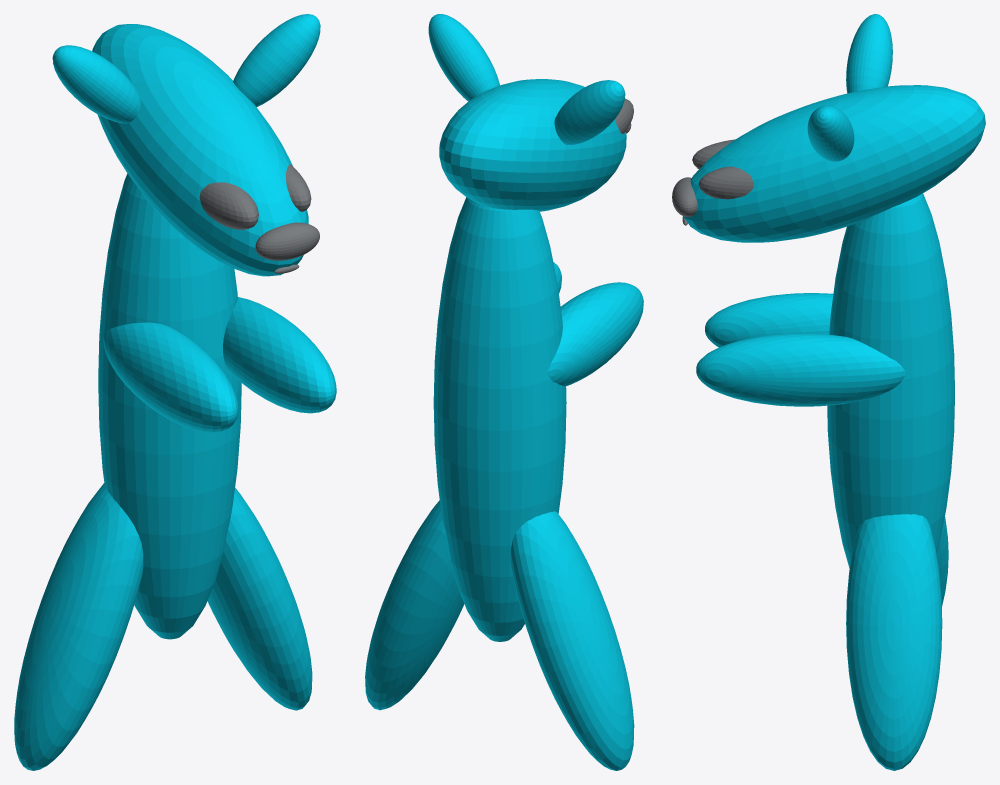
The model's file is Fantastic Turing-Bombul.glb.
3 renders of one model, left to right at view 1: azimuth 30°, elevation 25°; view 2: azimuth 150°, elevation 25°; view 3: azimuth 270°, elevation 25°, orthographic. The views are drawn at different scales.
Visible parts, largest first — view 1: obj_0, obj_1, obj_8, obj_7, obj_10, obj_9, obj_5, obj_6, obj_3, obj_4, obj_2; view 2: obj_0, obj_8, obj_1, obj_7, obj_10, obj_5, obj_6; view 3: obj_0, obj_1, obj_7, obj_9, obj_10, obj_6, obj_5, obj_2, obj_4, obj_8.
Part boxes in pixels (box(x1,y1,x2,y2)): obj_0: box(98, 173, 241, 639); obj_1: box(92, 24, 308, 276); obj_8: box(14, 483, 143, 770); obj_7: box(207, 487, 312, 710); obj_10: box(103, 322, 238, 432); obj_9: box(223, 297, 336, 413); obj_5: box(233, 14, 320, 106); obj_6: box(52, 45, 140, 123); obj_3: box(199, 182, 258, 229); obj_4: box(255, 222, 319, 260); obj_2: box(286, 164, 311, 211); obj_0: box(433, 197, 566, 641); obj_8: box(510, 511, 634, 770); obj_1: box(439, 79, 626, 211); obj_7: box(365, 500, 464, 710); obj_10: box(547, 282, 643, 386); obj_5: box(428, 14, 499, 101); obj_6: box(554, 80, 625, 144); obj_0: box(827, 193, 954, 568); obj_1: box(683, 85, 985, 242); obj_7: box(846, 514, 942, 770); obj_9: box(696, 333, 905, 406); obj_10: box(705, 293, 833, 347); obj_6: box(846, 14, 892, 93); obj_5: box(807, 105, 854, 161); obj_2: box(698, 166, 754, 199); obj_4: box(672, 177, 697, 216); obj_8: box(936, 517, 948, 606).
Bounding box in the file's own units: 5.3 × 12.97 × 5.68.
